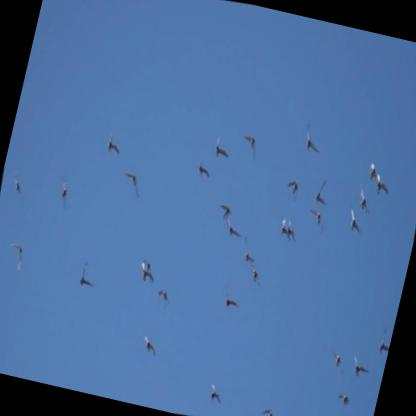bird: (45, 170, 82, 219), (348, 177, 378, 218), (298, 118, 326, 160), (73, 254, 101, 296), (118, 167, 147, 206), (236, 228, 261, 270), (235, 129, 262, 165), (4, 240, 30, 276), (133, 260, 158, 296), (310, 178, 335, 212), (373, 322, 395, 360), (220, 212, 246, 244), (348, 352, 374, 384), (344, 204, 367, 239), (139, 329, 163, 361), (280, 216, 301, 252), (102, 129, 126, 160), (306, 204, 329, 236), (5, 172, 27, 205), (332, 387, 357, 416), (204, 379, 227, 410), (211, 135, 234, 166), (370, 172, 392, 204), (220, 285, 242, 315), (279, 177, 303, 204), (327, 347, 349, 376), (152, 281, 174, 309), (193, 158, 215, 183), (246, 265, 265, 293), (215, 199, 235, 223), (363, 159, 380, 187), (275, 216, 292, 242), (257, 403, 277, 416), (378, 366, 385, 382)
